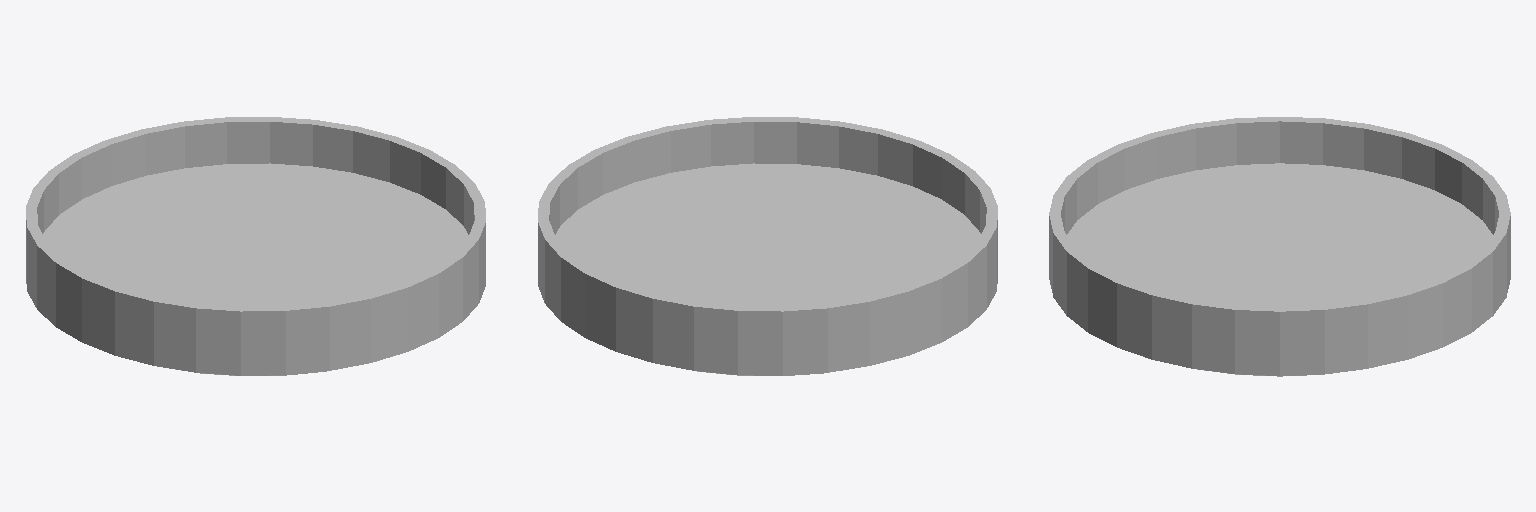
Rendered from CircleMap.obj.
3 renders of one model, left to right at view 1: azimuth 30°, elevation 25°; view 2: azimuth 150°, elevation 25°; view 3: azimuth 270°, elevation 25°, orthographic.
Bounding box in the file's own units: 10 × 2 × 10.